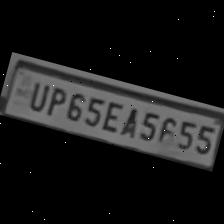5: (134, 106, 162, 144), (79, 92, 106, 130), (190, 121, 218, 157), (172, 116, 198, 152)
6: (61, 87, 88, 125), (154, 112, 178, 147)
A: (117, 102, 144, 140)
E: (98, 97, 124, 136)
P: (41, 82, 68, 120)
U: (22, 76, 52, 114)
